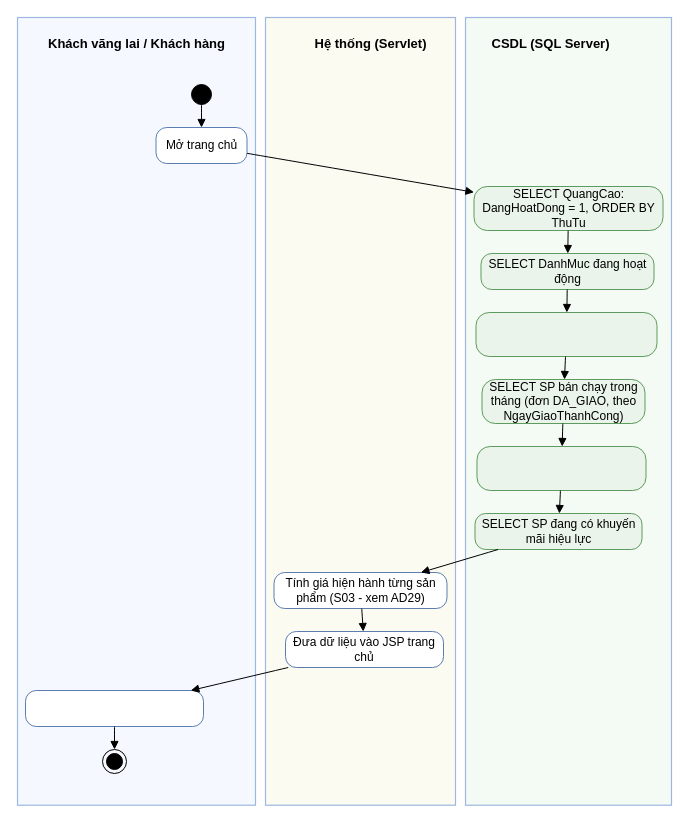
The diagram is 690 pixels wide and 823 high, and some of its shapes have lost their labels. Here are the shapes that lost their labels. From the top down, the centre of each, then its label:
(566,334): SELECT N sản phẩm mới nhất (TrangThai = DANG_BAN, ORDER BY NgayTao DESC)
(561,468): SELECT SP đánh giá cao (AVG SoSao >= 4, chỉ đánh giá BiAn = 0)
(114,708): Xem trang chủ, bấm vào sản phẩm để xem chi tiết
